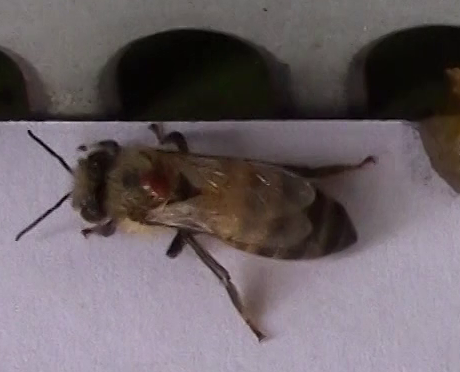Varroa destructor: (136, 163, 180, 202)
